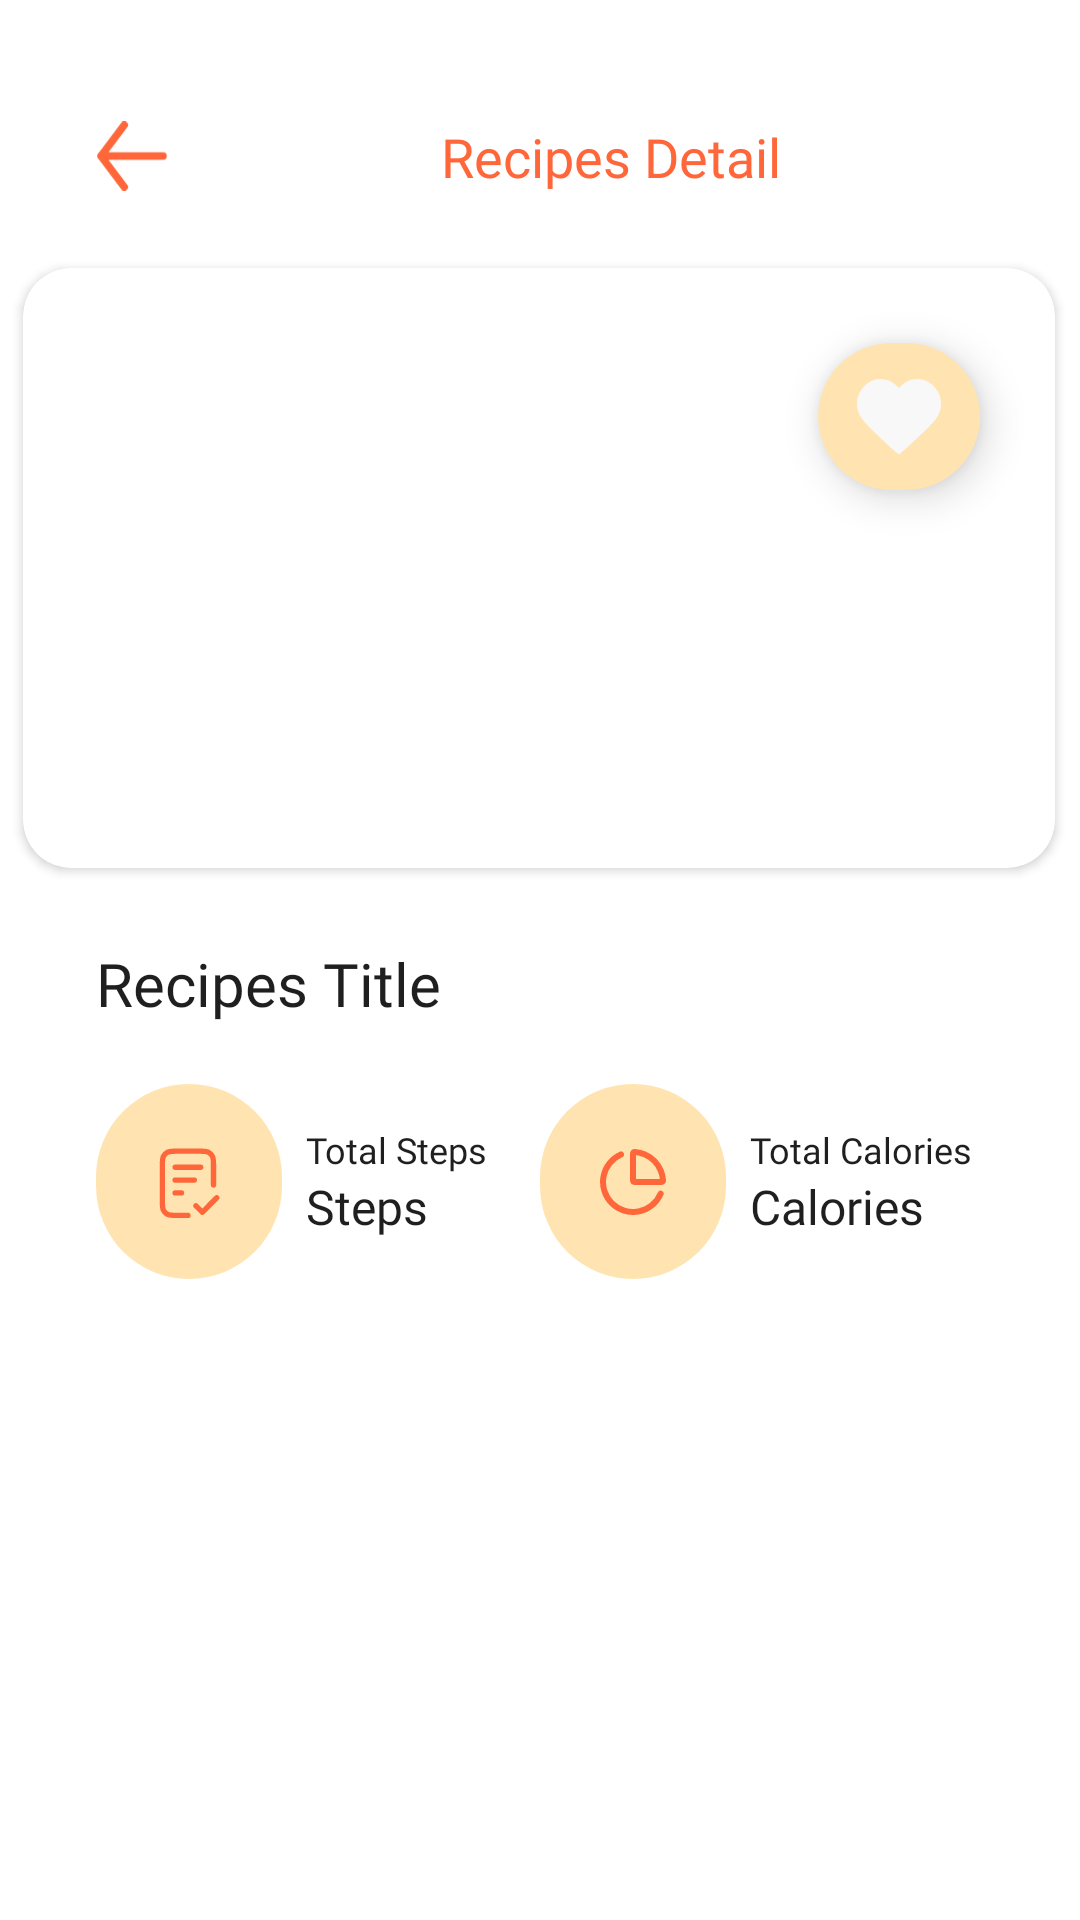

Named icons in this screenshot (1080 × 1920) and their centers, point (x, y):
Back Arrow: point (132, 156)
favorite: point (899, 416)
